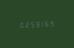eight: (32, 20, 36, 28)
five: (27, 20, 31, 28)
nine: (47, 19, 51, 27)
one: (37, 19, 41, 27)
six: (42, 19, 46, 27)
two: (22, 20, 26, 28)
zero: (17, 21, 21, 28)
